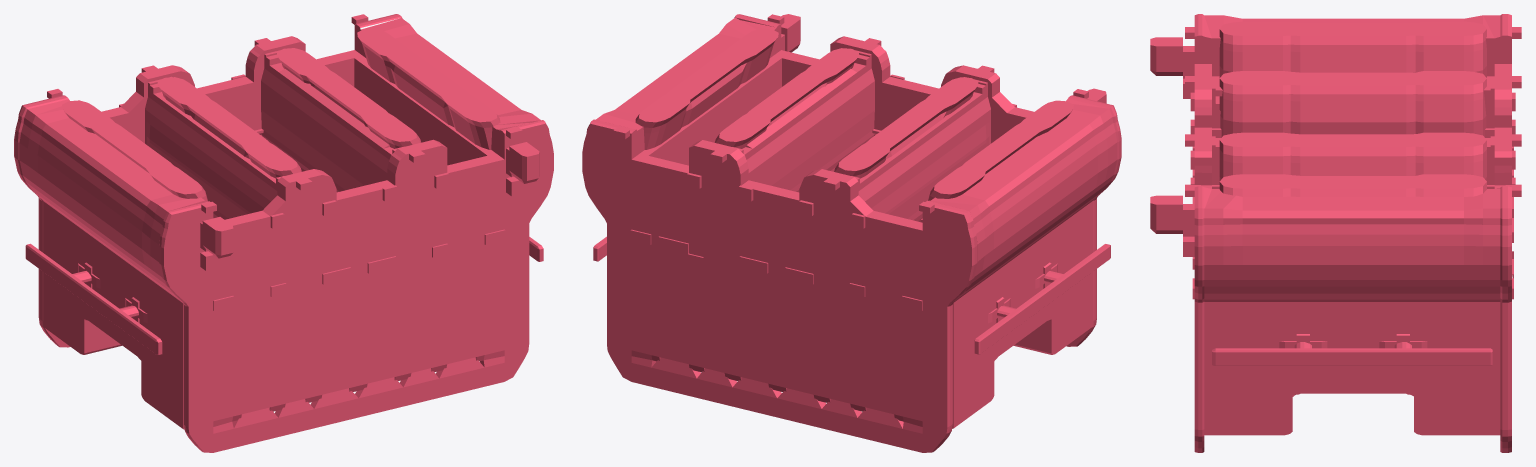
File: park_monorail.glb
3 renders of one model, left to right at view 1: azimuth 30°, elevation 25°; view 2: azimuth 150°, elevation 25°; view 3: azimuth 270°, elevation 25°, orthographic. The views are drawn at different scales.
Parts seen in each view (by area): view 1: park_monorail; view 2: park_monorail; view 3: park_monorail.
Boxes of the visible parts, x1,y1,x2,y2 form: park_monorail: [14, 14, 553, 452]; park_monorail: [582, 14, 1121, 452]; park_monorail: [1150, 14, 1521, 452].
Size of the model in its own units: 0.6954 by 0.4288 by 0.5378.
